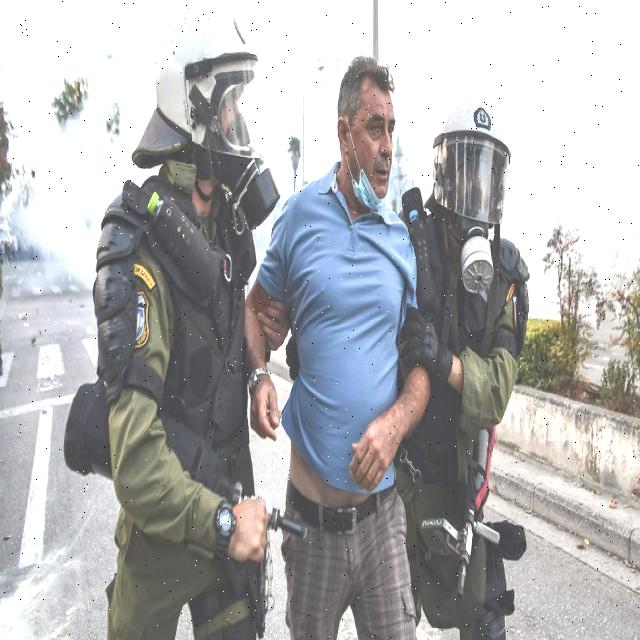police: (89, 7, 306, 640), (392, 85, 522, 640)
